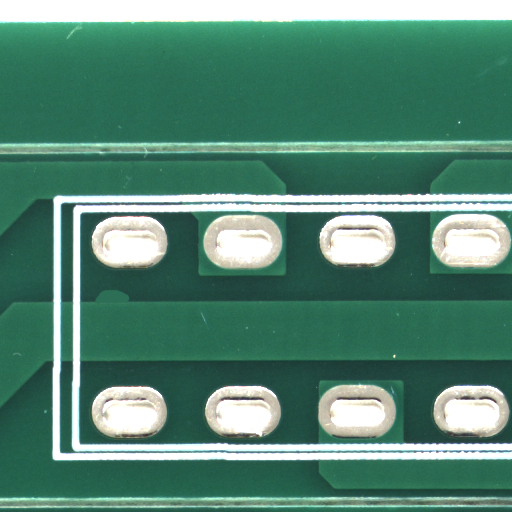Spur: (112, 295, 148, 308)
